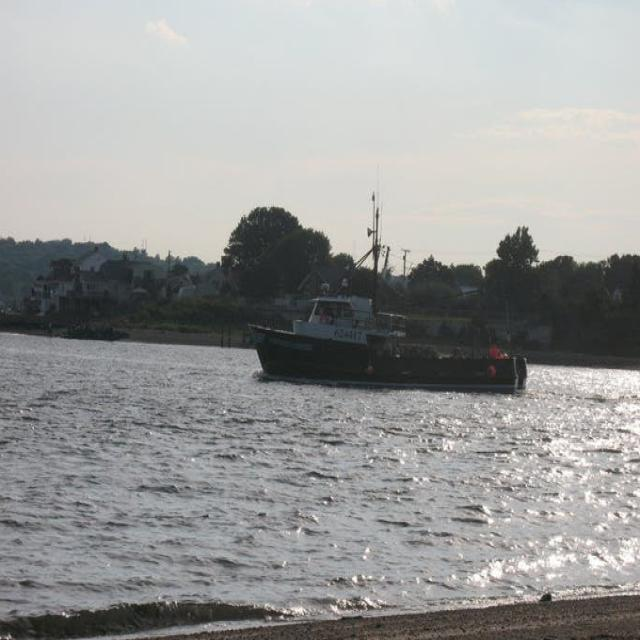fishing boat: (244, 258, 532, 399)
